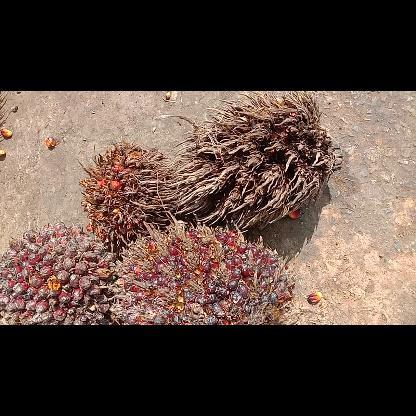Janjang kosong: (152, 92, 344, 235), (78, 140, 182, 248)
Kurang masak: (0, 222, 117, 325)
TBS masak: (113, 216, 295, 324)
